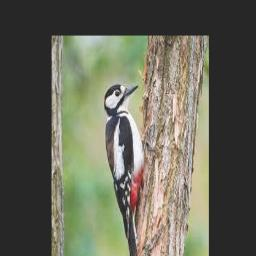Woodpecker: (104, 85, 144, 256)
